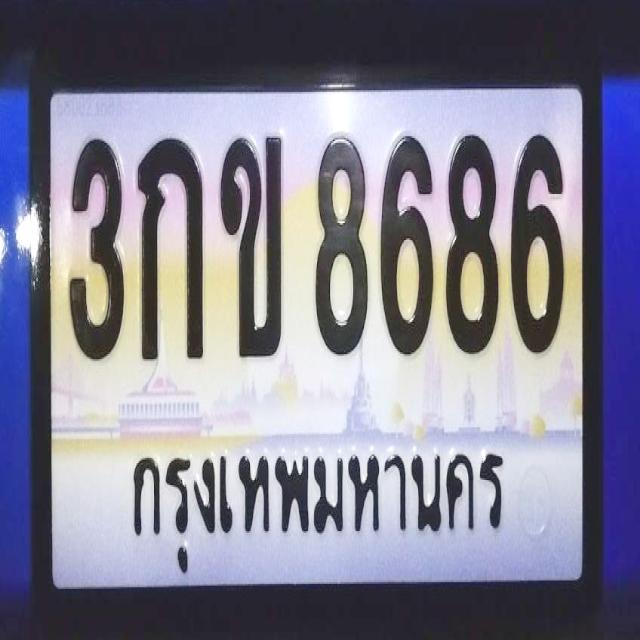license_plate: (29, 51, 606, 640)
